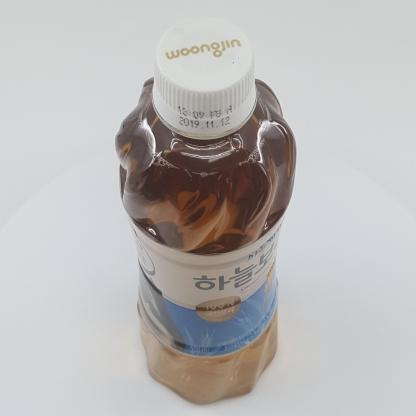------500ML: (114, 16, 297, 406)
